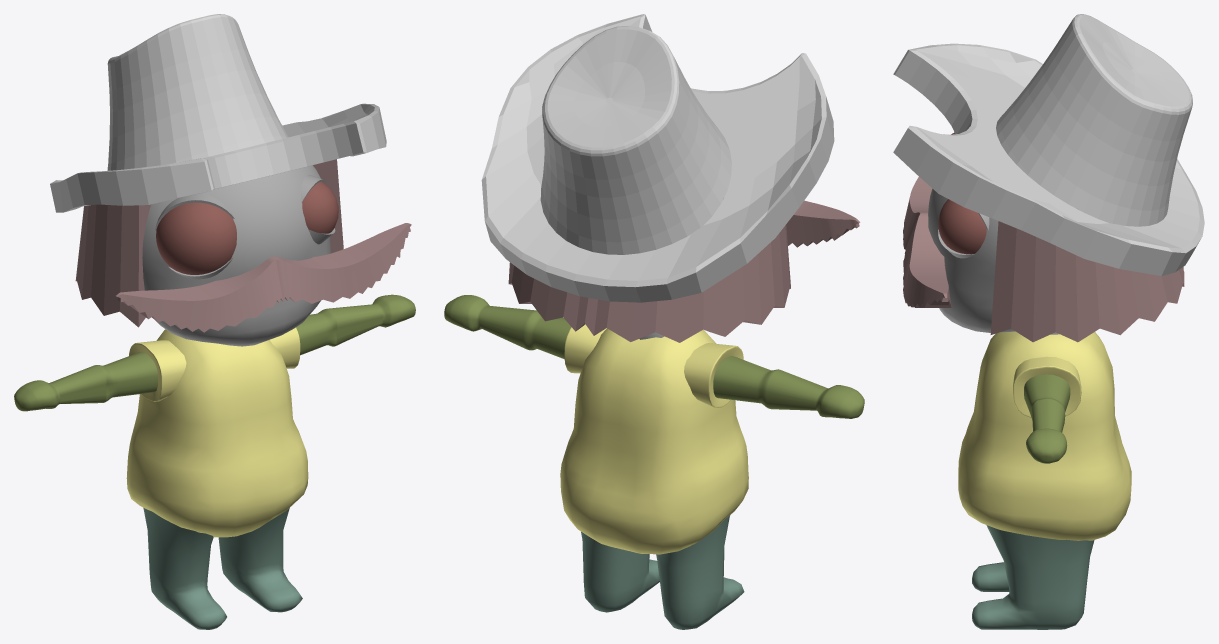
The model's file is JauneChara.fbx.
3 renders of one model, left to right at view 1: azimuth 30°, elevation 25°; view 2: azimuth 150°, elevation 25°; view 3: azimuth 270°, elevation 25°, orthographic. The views are drawn at different scales.
Parts seen in each view (by area): view 1: jaune__1_:JAMBRS2; view 2: jaune__1_:JAMBRS2; view 3: jaune__1_:JAMBRS2.
Part boxes in pixels (<box>): jaune__1_:JAMBRS2: <box>14,14,415,629</box>; jaune__1_:JAMBRS2: <box>444,14,864,629</box>; jaune__1_:JAMBRS2: <box>893,14,1204,629</box>.
Bounding box in the file's own units: 714 × 979 × 472.
